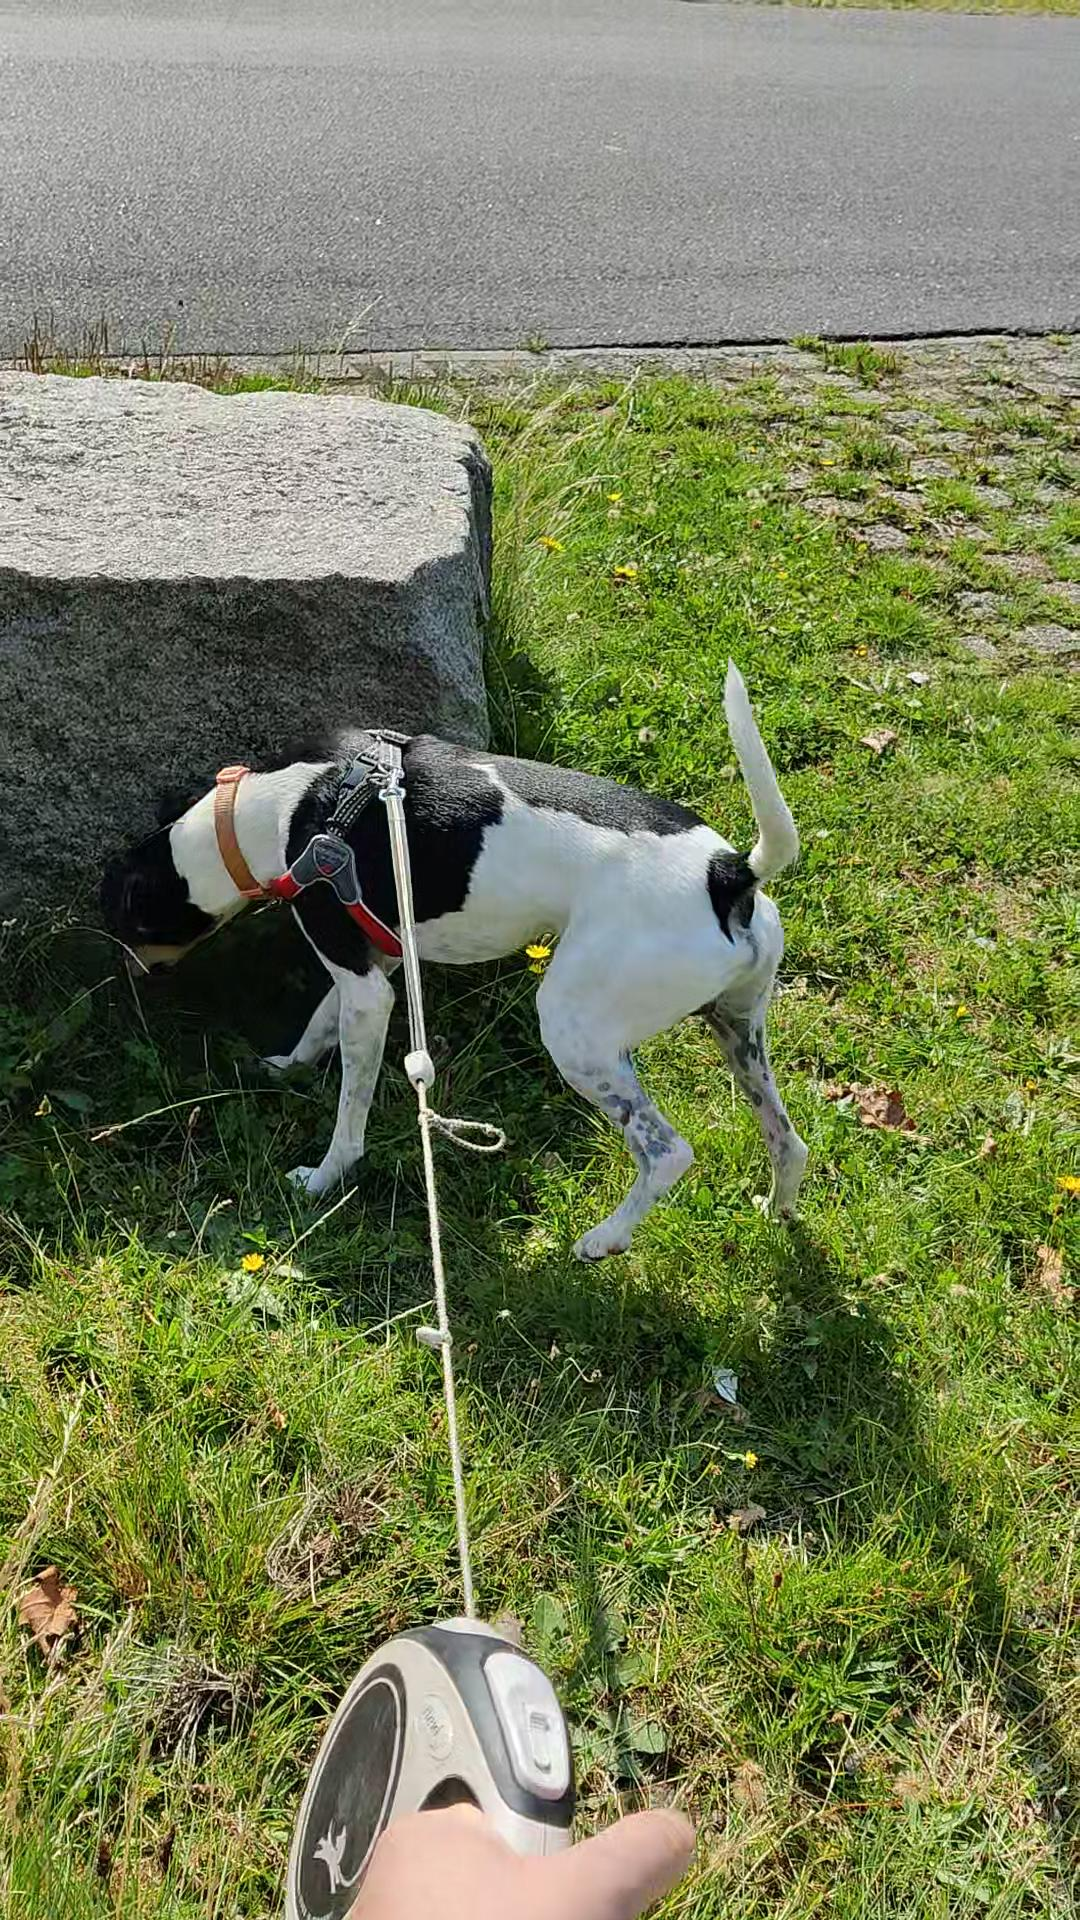Dog: (80, 649, 815, 1266)
